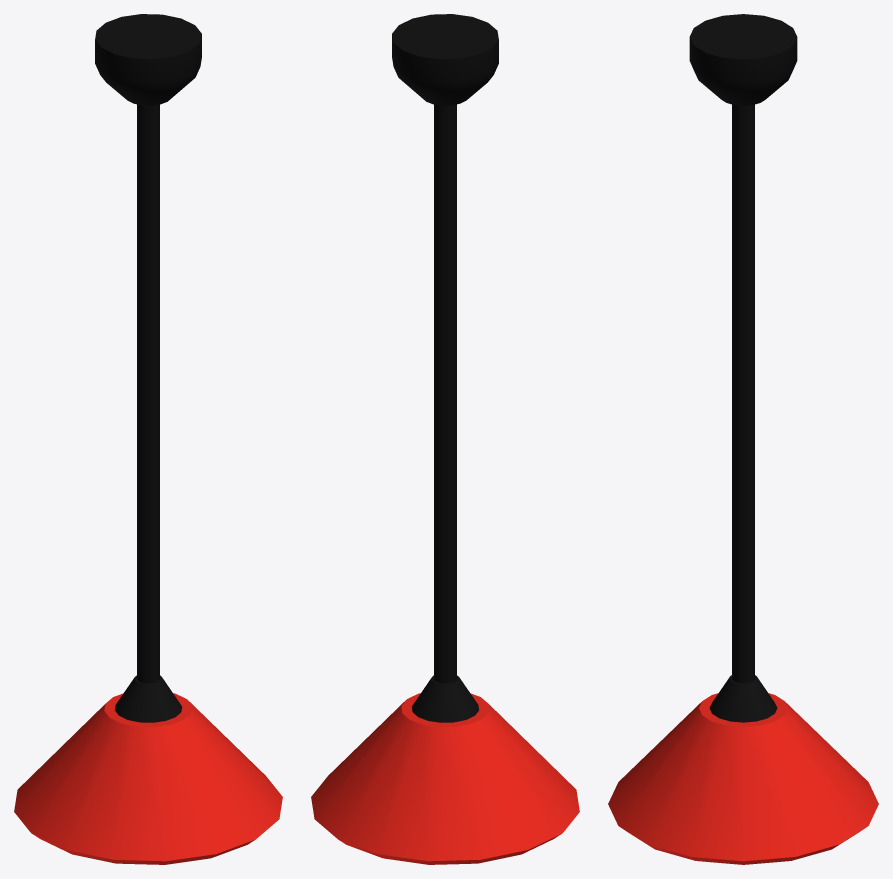
File: Ceiling-Lamp-2.glb
3 renders of one model, left to right at view 1: azimuth 30°, elevation 25°; view 2: azimuth 150°, elevation 25°; view 3: azimuth 270°, elevation 25°, orthographic.
Visible parts, largest first — view 1: Ceiling-Lamp-2-col; view 2: Ceiling-Lamp-2-col; view 3: Ceiling-Lamp-2-col.
Boxes of the visible parts, box(x1,y1,x2,y2) form: Ceiling-Lamp-2-col: box(14, 14, 282, 864); Ceiling-Lamp-2-col: box(311, 14, 579, 864); Ceiling-Lamp-2-col: box(608, 14, 878, 864).
Size of the model in its own units: 0.3965 by 1.25 by 0.3965.
